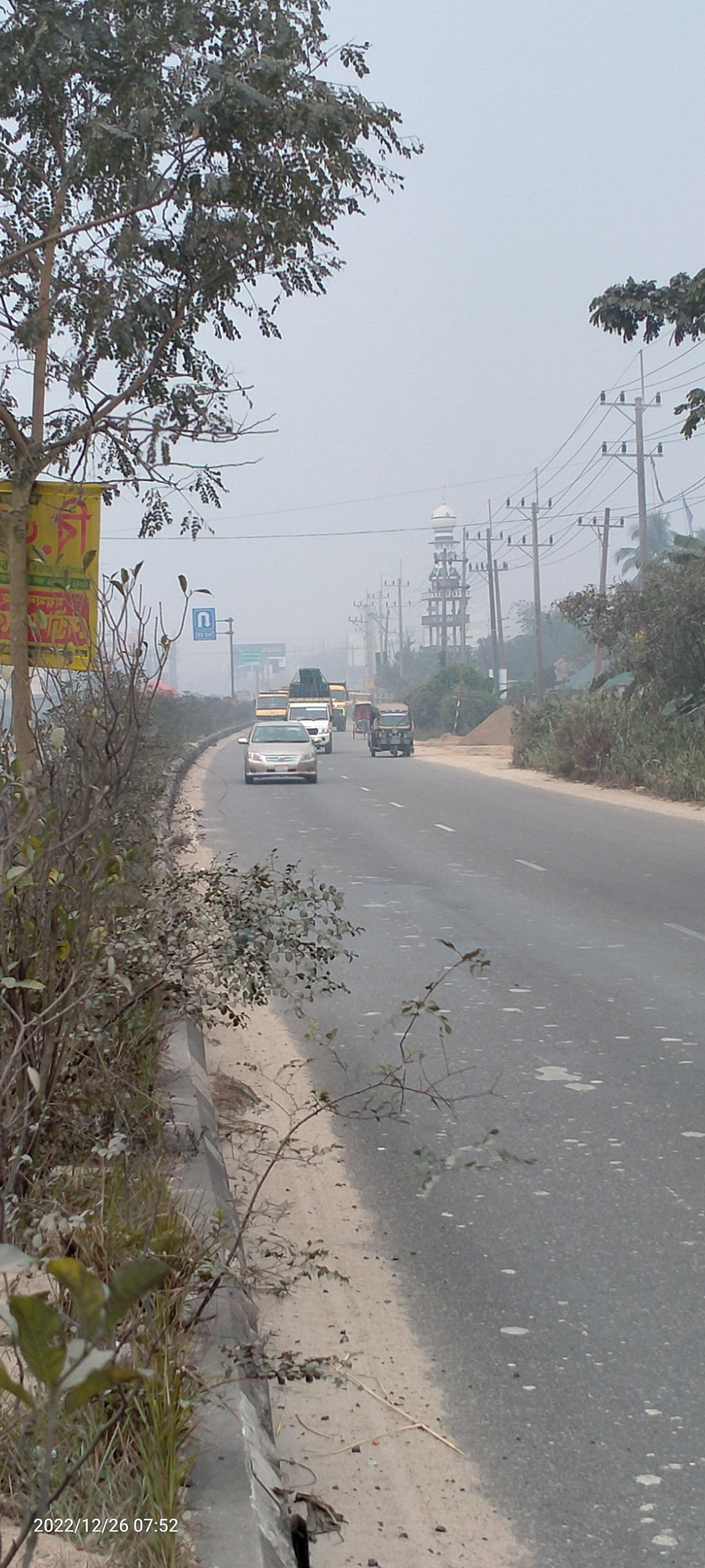Car: (232, 713, 334, 791)
Truck: (279, 664, 335, 755), (249, 687, 295, 731), (329, 673, 353, 739)
